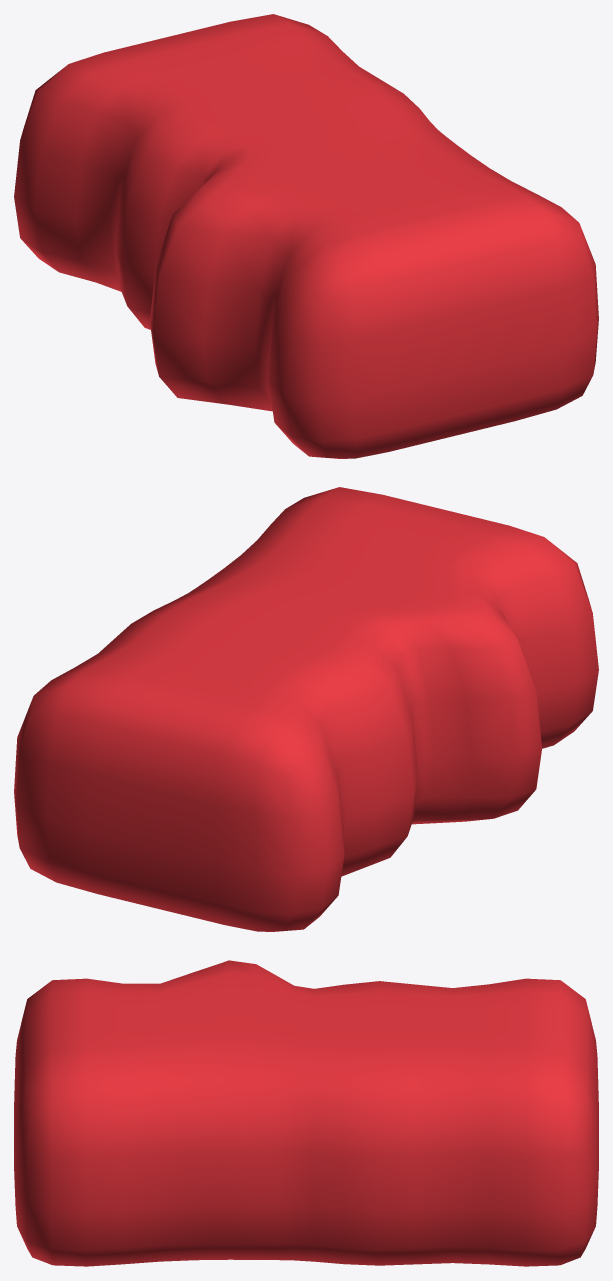
File: Tejido1.fbx
3 views of the same model, one above another, from view 1: azimuth 30°, elevation 25°; view 2: azimuth 150°, elevation 25°; view 3: azimuth 270°, elevation 25° (orthographic). The views are drawn at different scales.
Parts seen in each view (by area): view 1: Tejido1; view 2: Tejido1; view 3: Tejido1.
Boxes of the visible parts, x1=… form: Tejido1: x1=14, y1=14, x2=598, y2=458; Tejido1: x1=14, y1=487, x2=598, y2=931; Tejido1: x1=14, y1=960, x2=598, y2=1266.
Bounding box in the file's own units: 1.8 × 1 × 2.76.
